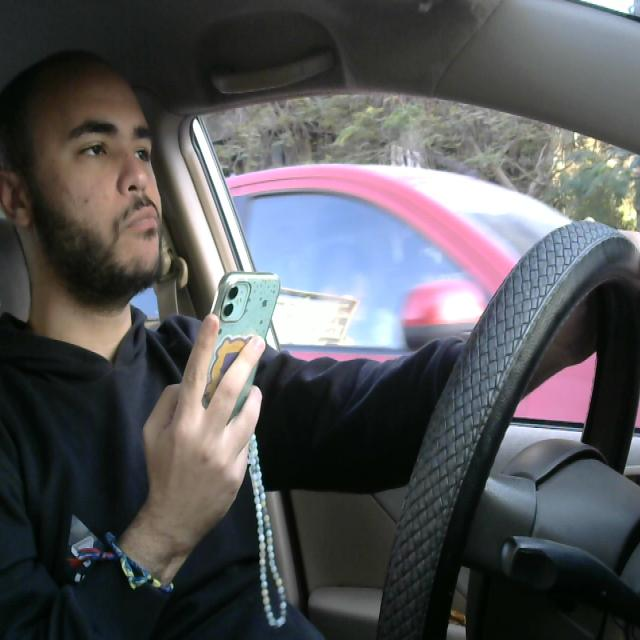mobile use: (196, 263, 292, 458)
